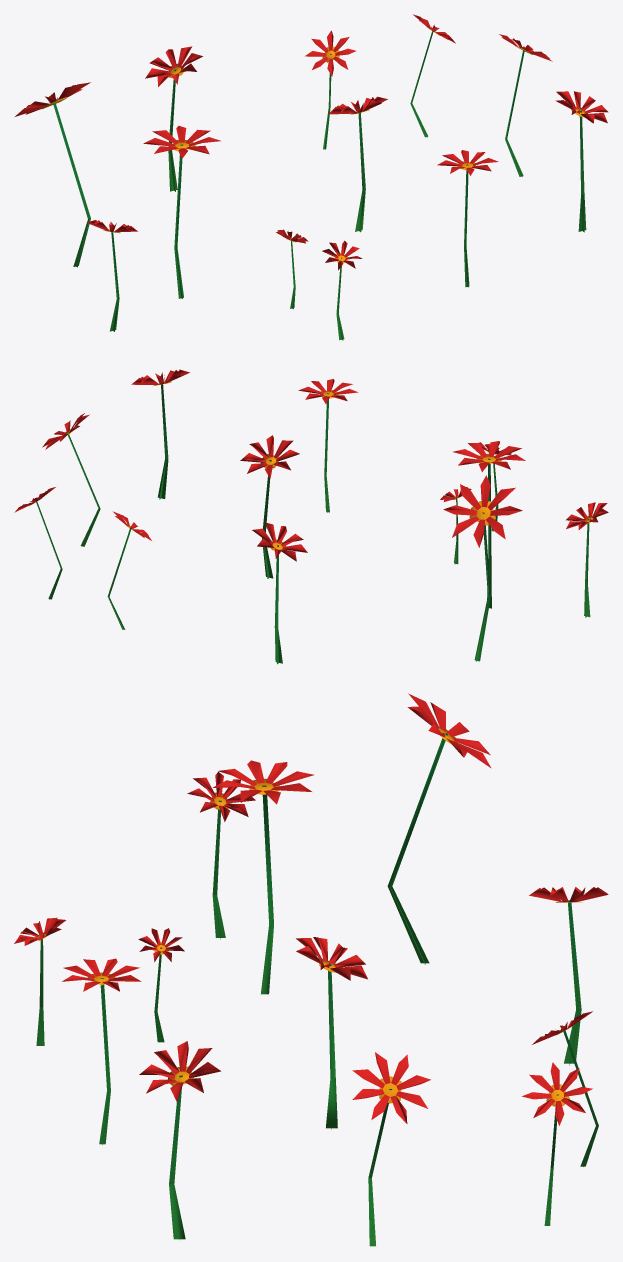
Rendered from flower_red_low.glb.
3 renders of one model, top to bottom at view 1: azimuth 30°, elevation 25°; view 2: azimuth 150°, elevation 25°; view 3: azimuth 270°, elevation 25°, orthographic. The views are drawn at different scales.
Visible parts, largest first — view 1: Flower 4_4_C; view 2: Flower 4_4_C; view 3: Flower 4_4_C.
Part boxes in pixels (bbox=[...]): Flower 4_4_C: bbox=[15, 14, 608, 340]; Flower 4_4_C: bbox=[14, 369, 608, 664]; Flower 4_4_C: bbox=[14, 693, 608, 1246].
Bounding box in the file's own units: 0.6073 × 0.2104 × 0.4454.
Materials: 1 (1 with a texture image).
